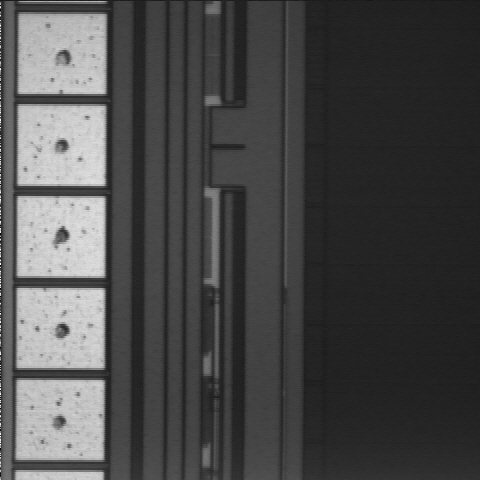pad: (18, 196, 105, 278), (18, 106, 105, 186), (17, 288, 104, 368), (17, 380, 104, 460), (19, 14, 105, 94)
